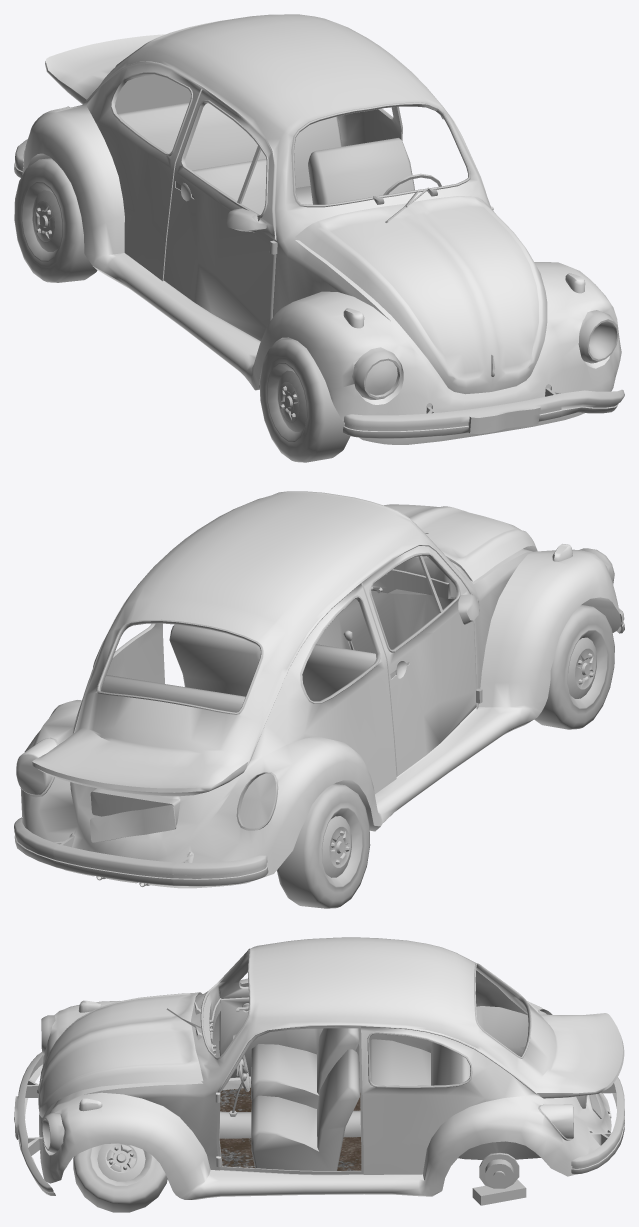
File: VW Beetle wreck.fbx
The picture shows the model from 3 angles, top to bottom: view 1: azimuth 30°, elevation 25°; view 2: azimuth 150°, elevation 25°; view 3: azimuth 270°, elevation 25°; orthographic projection. The views are drawn at different scales.
Visible parts, largest first — view 1: VW Beetle wreck; view 2: VW Beetle wreck; view 3: VW Beetle wreck.
Part boxes in pixels (x1,y1,x2,y2): VW Beetle wreck: (14,14,624,462); VW Beetle wreck: (14,491,624,908); VW Beetle wreck: (14,937,624,1212).
Bounding box in the file's own units: 214 × 167 × 456.
